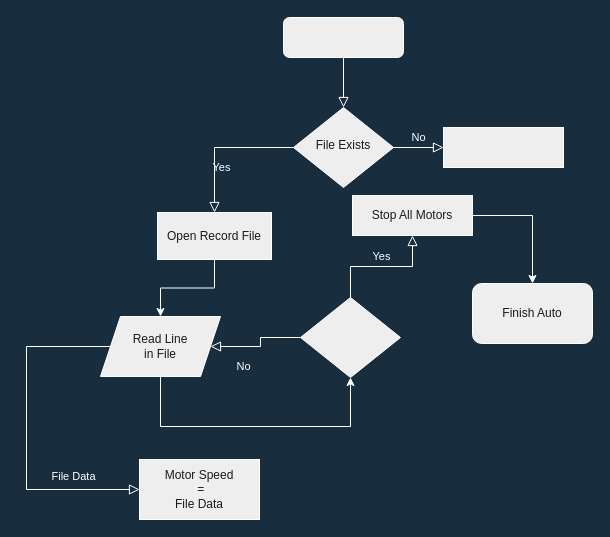
The diagram is 610 pixels wide and 537 high, and some of its shapes have lost their labels. The shapes that lost their labels are listed below. From the top down, each one's box as (x1, y1, x2, y2) in pixels, then its label:
(282, 16, 404, 58): Initialize Code
(442, 126, 564, 168): Print: Error
(300, 296, 400, 378): End of file
